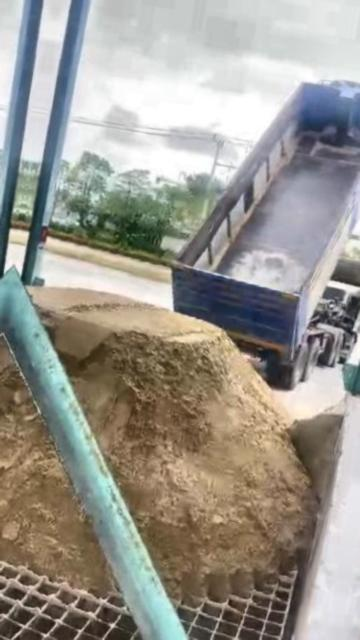sand: (33, 289, 316, 599), (0, 344, 111, 591), (291, 399, 345, 511)
